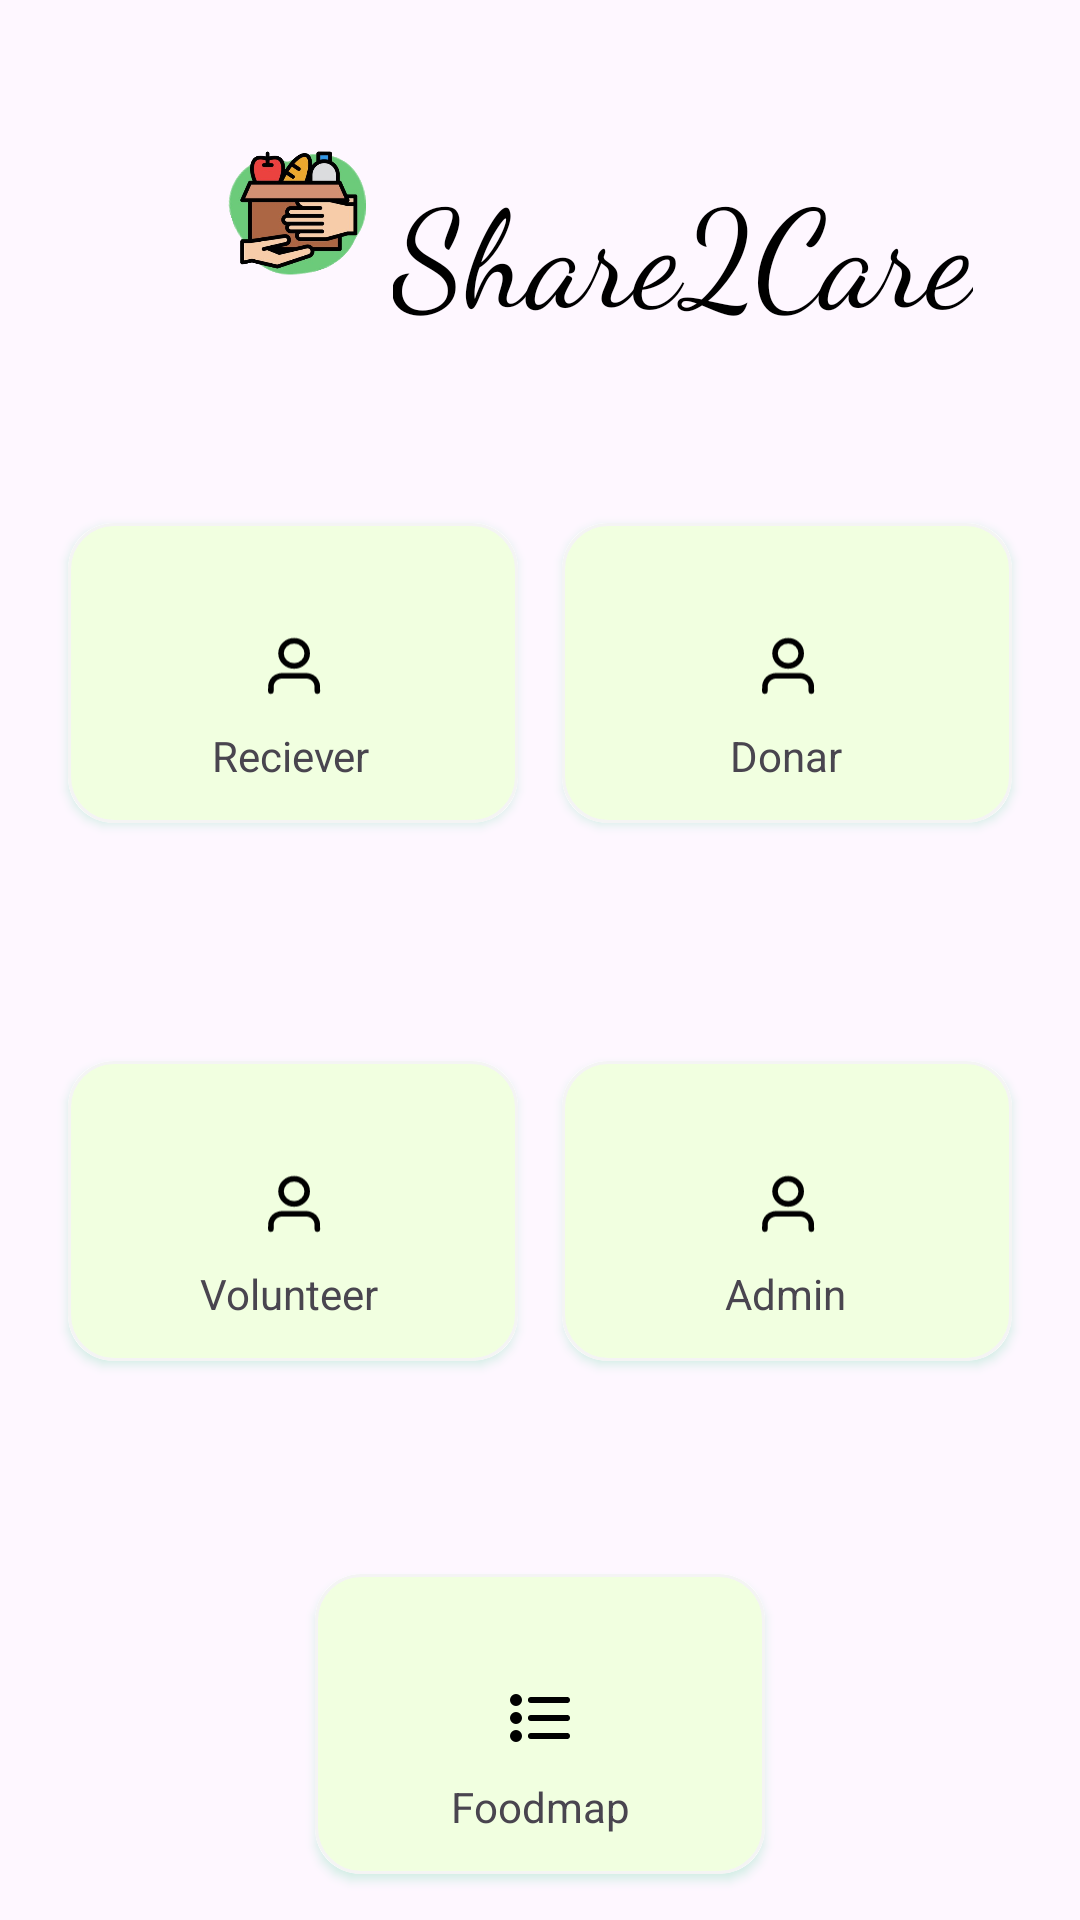

Named icons in this screenshot (1080px×1920px) and their bounding boxes, (x1, y1, x2, y2):
list: (510, 1694, 570, 1742)
user: (268, 637, 321, 695), (762, 637, 815, 695), (268, 1175, 321, 1233), (762, 1175, 815, 1233)
